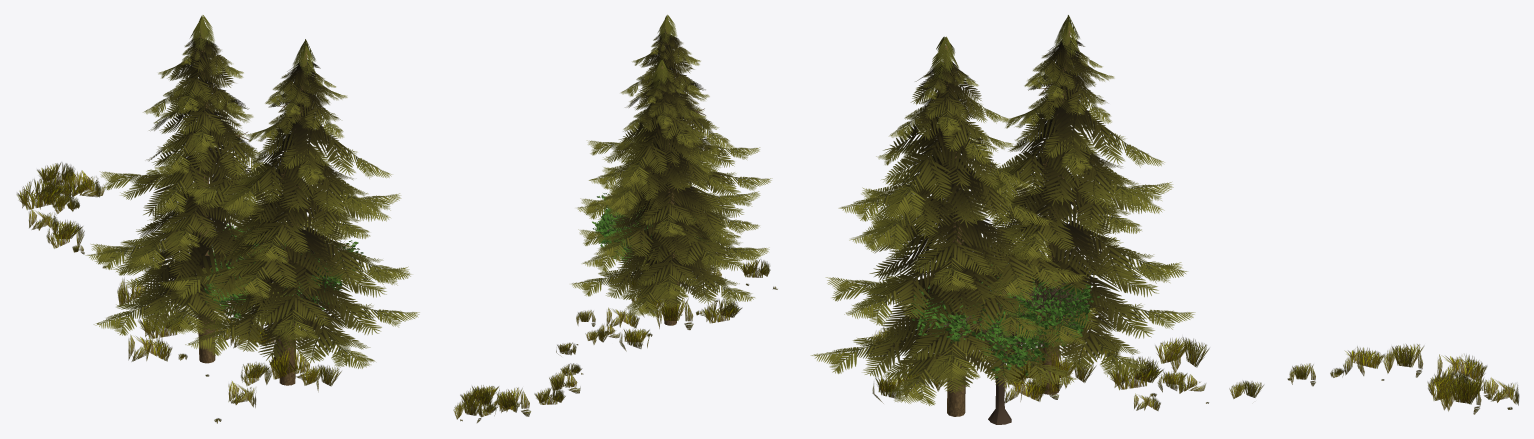
3 views of the same model, side by side, from view 1: azimuth 30°, elevation 25°; view 2: azimuth 150°, elevation 25°; view 3: azimuth 270°, elevation 25° (orthographic). The views are drawn at different scales.
Parts seen in each view (by area): view 1: Low Poly Stylized 2D Grass.2256; view 2: Low Poly Stylized 2D Grass.2256; view 3: Low Poly Stylized 2D Grass.2256.
Part boxes in pixels (x1=…): Low Poly Stylized 2D Grass.2256: x1=16, y1=15, x2=419, y2=423; Low Poly Stylized 2D Grass.2256: x1=453, y1=14, x2=777, y2=422; Low Poly Stylized 2D Grass.2256: x1=811, y1=15, x2=1519, y2=424.
Size of the model in its own units: 10.85 by 13.03 by 21.87.
5 materials, 4 textured.
